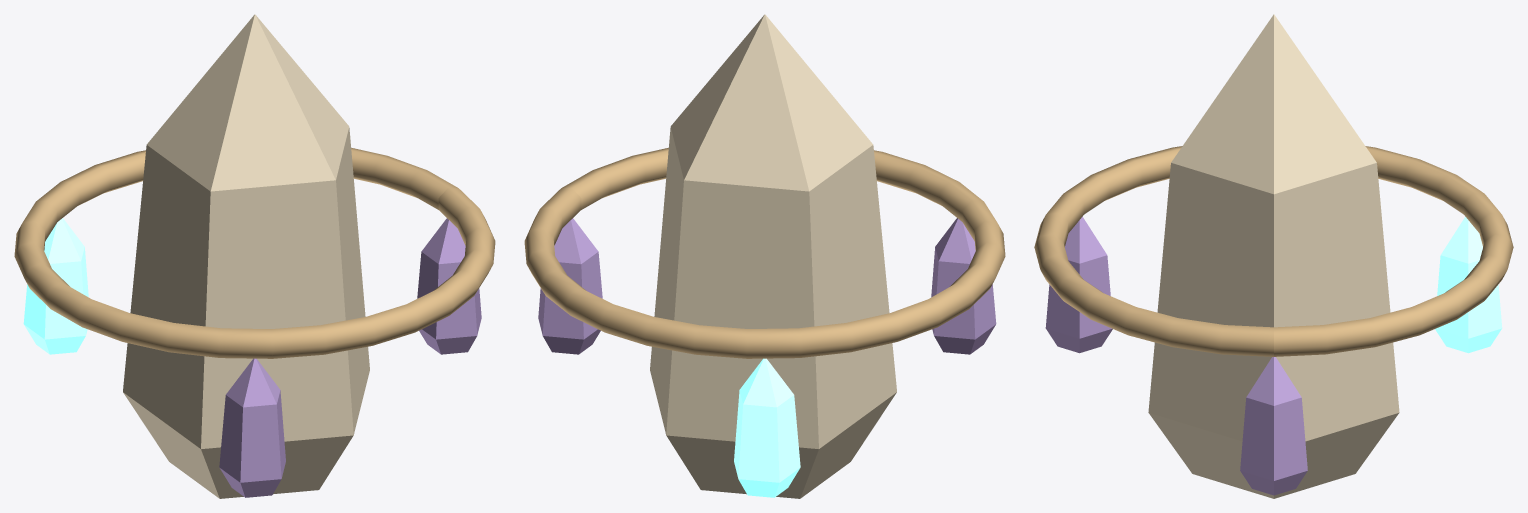
Rendered from pick_starshard.glb.
3 views of the same model, side by side, from view 1: azimuth 30°, elevation 25°; view 2: azimuth 150°, elevation 25°; view 3: azimuth 270°, elevation 25° (orthographic).
Parts seen in each view (by area): view 1: PICK_starshard_primary, PICK_starshard_orbit, PICK_starshard_satellite_2, PICK_starshard_satellite_0, PICK_starshard_satellite_1; view 2: PICK_starshard_primary, PICK_starshard_orbit, PICK_starshard_satellite_1, PICK_starshard_satellite_0, PICK_starshard_satellite_2; view 3: PICK_starshard_primary, PICK_starshard_orbit, PICK_starshard_satellite_0, PICK_starshard_satellite_1, PICK_starshard_satellite_2.
Boxes of the visible parts, x1,y1,x2,y2 form: PICK_starshard_primary: (123,14,369,498); PICK_starshard_orbit: (14,147,495,358); PICK_starshard_satellite_2: (219,358,285,497); PICK_starshard_satellite_0: (417,218,481,354); PICK_starshard_satellite_1: (23,218,88,354); PICK_starshard_primary: (650,14,896,498); PICK_starshard_orbit: (524,147,1005,358); PICK_starshard_satellite_1: (734,358,800,497); PICK_starshard_satellite_0: (538,218,602,354); PICK_starshard_satellite_2: (931,218,996,354); PICK_starshard_primary: (1148,14,1399,498); PICK_starshard_orbit: (1034,146,1513,356); PICK_starshard_satellite_0: (1240,357,1307,495); PICK_starshard_satellite_1: (1435,217,1502,353); PICK_starshard_satellite_2: (1045,217,1112,353).
Size of the model in its own units: 0.757 by 0.75 by 0.726.
